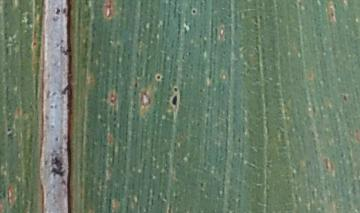tarspot: (169, 93, 181, 114), (338, 90, 353, 105), (188, 3, 200, 19), (154, 72, 167, 83), (30, 37, 39, 51), (170, 84, 182, 93)
